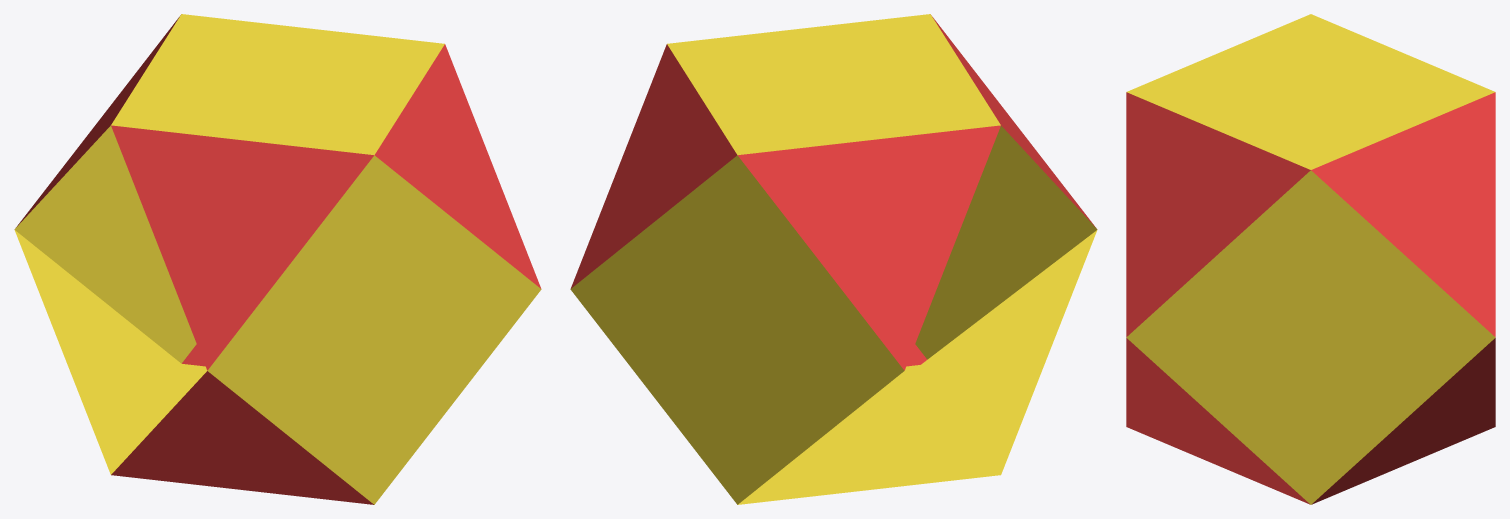
Rendered from atapattama.glb.
The picture shows the model from 3 angles, left to right: view 1: azimuth 30°, elevation 25°; view 2: azimuth 150°, elevation 25°; view 3: azimuth 270°, elevation 25°; orthographic projection. The views are drawn at different scales.
Parts seen in each view (by area): view 1: Square_Side_4, Square_Top, Triangle_Top_3, Square_Side_3, Square_Side_2, Triangle_Bottom_3, Triangle_Top_4, Triangle_Top_2; view 2: Square_Side_3, Square_Side_2, Square_Top, Triangle_Top_2, Square_Side_4, Triangle_Top_1, Triangle_Top_3; view 3: Square_Side_1, Square_Top, Triangle_Top_1, Triangle_Top_4, Triangle_Bottom_1, Triangle_Bottom_4.
Part boxes in pixels (x1,y1,x2,y2): Square_Side_4: (207,155,541,504); Square_Top: (111,14,444,155); Triangle_Top_3: (111,125,373,370); Square_Side_3: (14,125,196,363); Square_Side_2: (14,230,206,474); Triangle_Bottom_3: (111,371,373,504); Triangle_Top_4: (374,44,541,288); Triangle_Top_2: (16,15,180,227); Square_Side_3: (570,155,904,504); Square_Side_2: (738,230,1097,504); Square_Top: (667,14,1000,155); Triangle_Top_2: (738,125,1000,370); Square_Side_4: (915,125,1097,359); Triangle_Top_1: (570,44,737,288); Triangle_Top_3: (931,15,1095,227); Square_Side_1: (1126,170,1495,504); Square_Top: (1126,14,1495,169); Triangle_Top_1: (1311,92,1495,336); Triangle_Top_4: (1126,92,1310,336); Triangle_Bottom_1: (1312,338,1495,504); Triangle_Bottom_4: (1126,338,1309,504).
Bounding box in the file's own units: 24.17 × 24.17 × 24.17.
